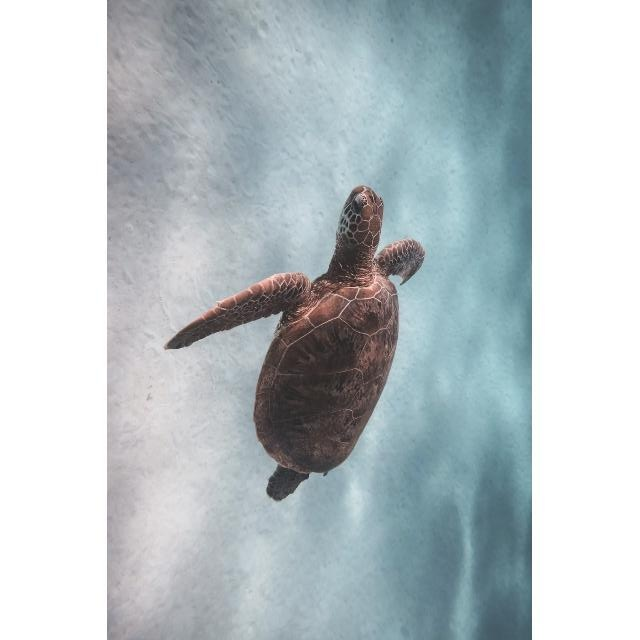turtle: (161, 183, 426, 502)
